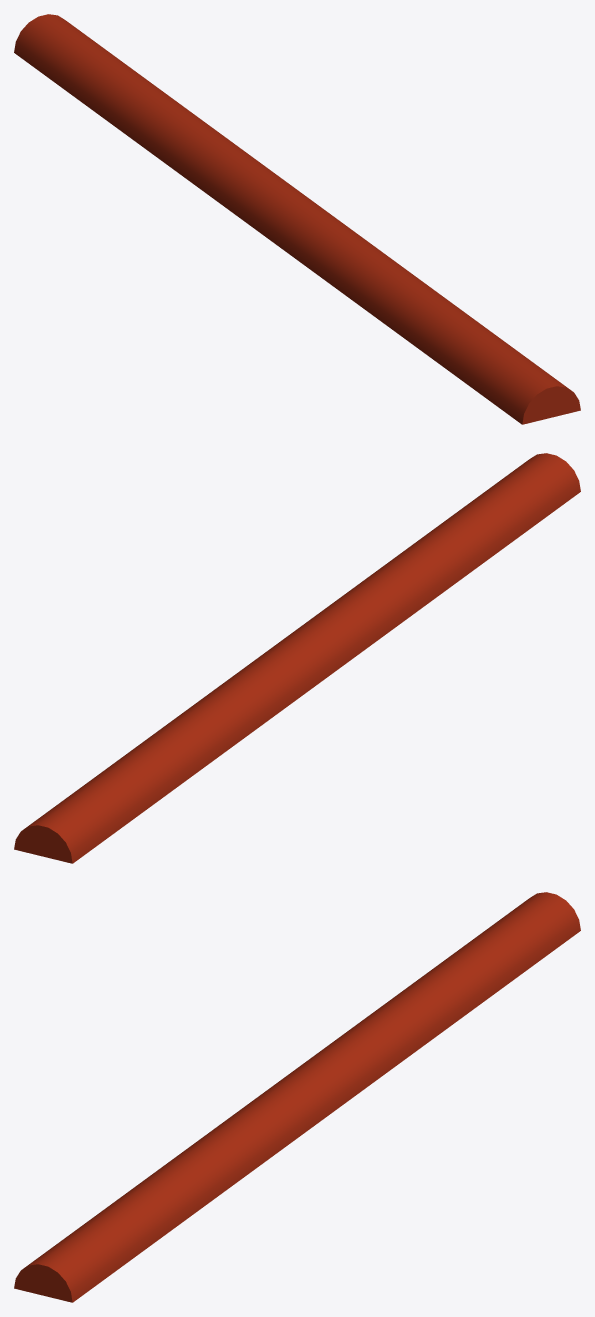
File: RoofBack.fbx
3 renders of one model, top to bottom at view 1: azimuth 30°, elevation 25°; view 2: azimuth 150°, elevation 25°; view 3: azimuth 330°, elevation 25°, orthographic.
Visible parts, largest first — view 1: Roof_Back002; view 2: Roof_Back002; view 3: Roof_Back002.
Part boxes in pixels (<box>): Roof_Back002: <box>14,14,580,424</box>; Roof_Back002: <box>14,453,580,863</box>; Roof_Back002: <box>14,892,580,1302</box>.
Size of the model in its own units: 7.87 by 3.88 by 118.
